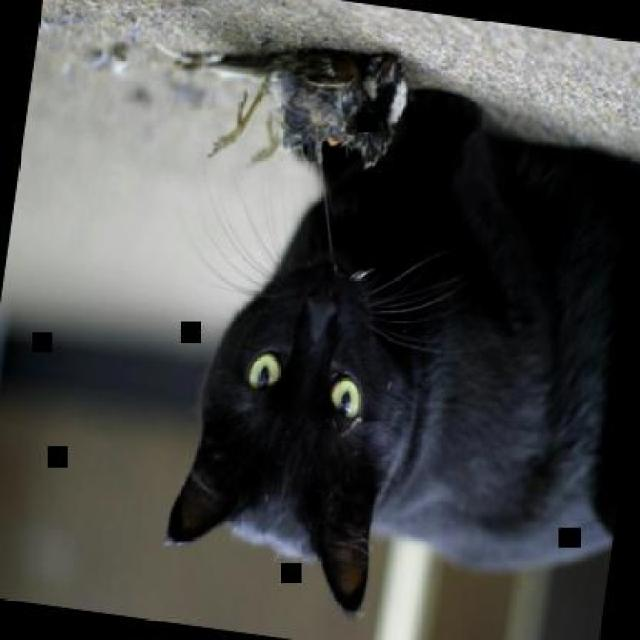cat: (156, 59, 638, 638)
